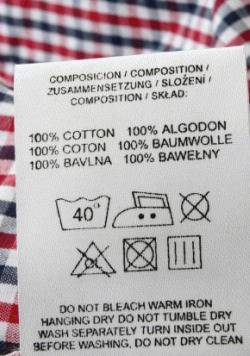do_not_dry_clean: (175, 188, 213, 225)
